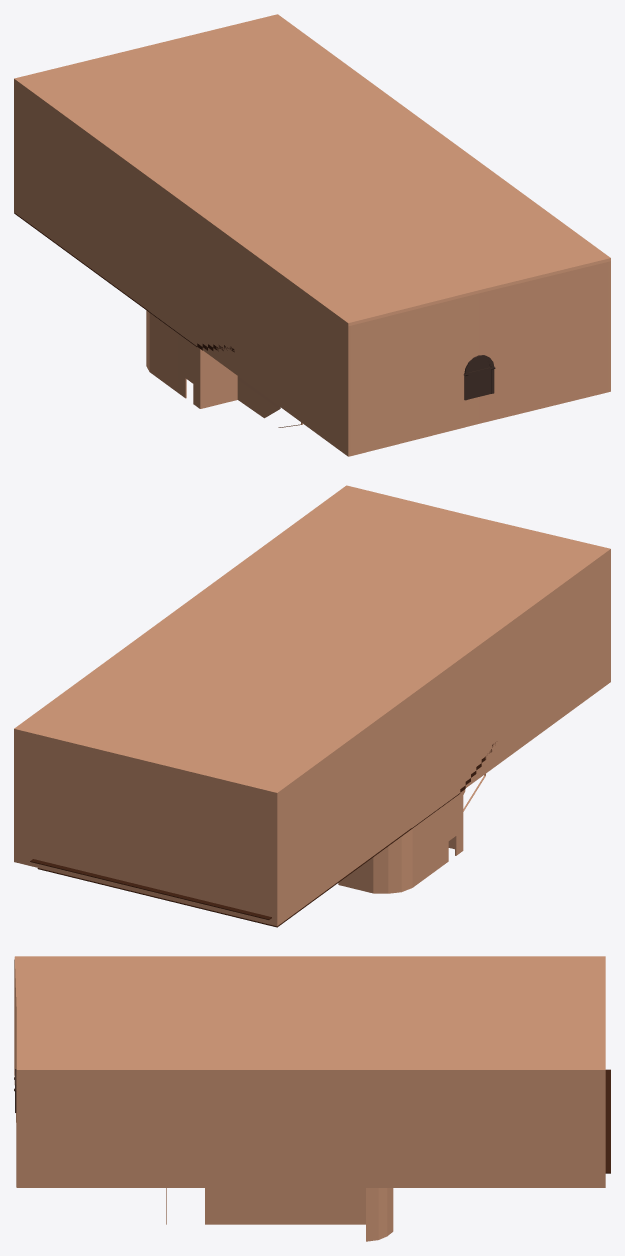
Rendered from FinishedLevel.fbx.
3 views of the same model, one above another, from view 1: azimuth 30°, elevation 25°; view 2: azimuth 150°, elevation 25°; view 3: azimuth 270°, elevation 25° (orthographic). The views are drawn at different scales.
Parts seen in each view (by area): view 1: OutsideWalls, SM_TheatreWalls, Cube.027; view 2: OutsideWalls, SM_TheatreWalls, SM_StageFloor, SM_TheatreFloor; view 3: OutsideWalls, SM_TheatreWalls, SM_StageFloor.
Boxes of the visible parts, x1,y1,x2,y2 form: OutsideWalls: (14,14,610,456); SM_TheatreWalls: (146,310,302,427); Cube.027: (463,355,495,400); OutsideWalls: (14,485,610,926); SM_TheatreWalls: (338,774,485,893); SM_StageFloor: (30,859,271,919); SM_TheatreFloor: (37,742,495,927); OutsideWalls: (14,956,605,1187); SM_TheatreWalls: (166,1188,393,1241); SM_StageFloor: (605,1069,610,1173).
Size of the model in its own units: 7000 by 15522 by 4927.
